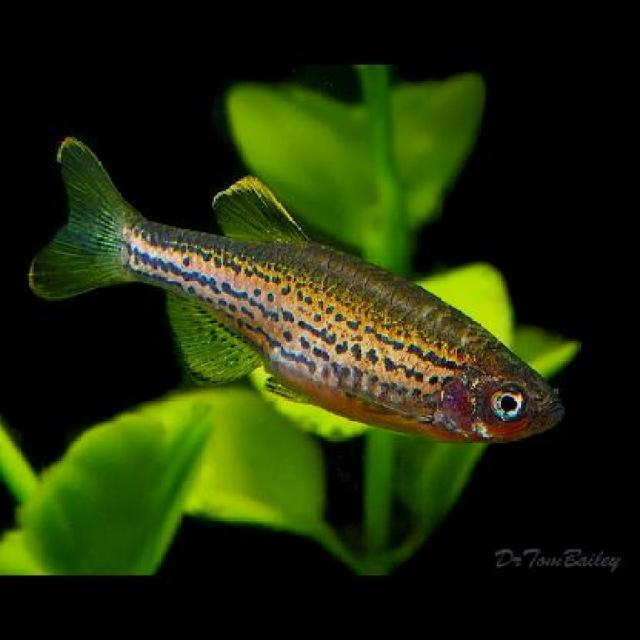ZebraFish: (40, 139, 560, 443)
